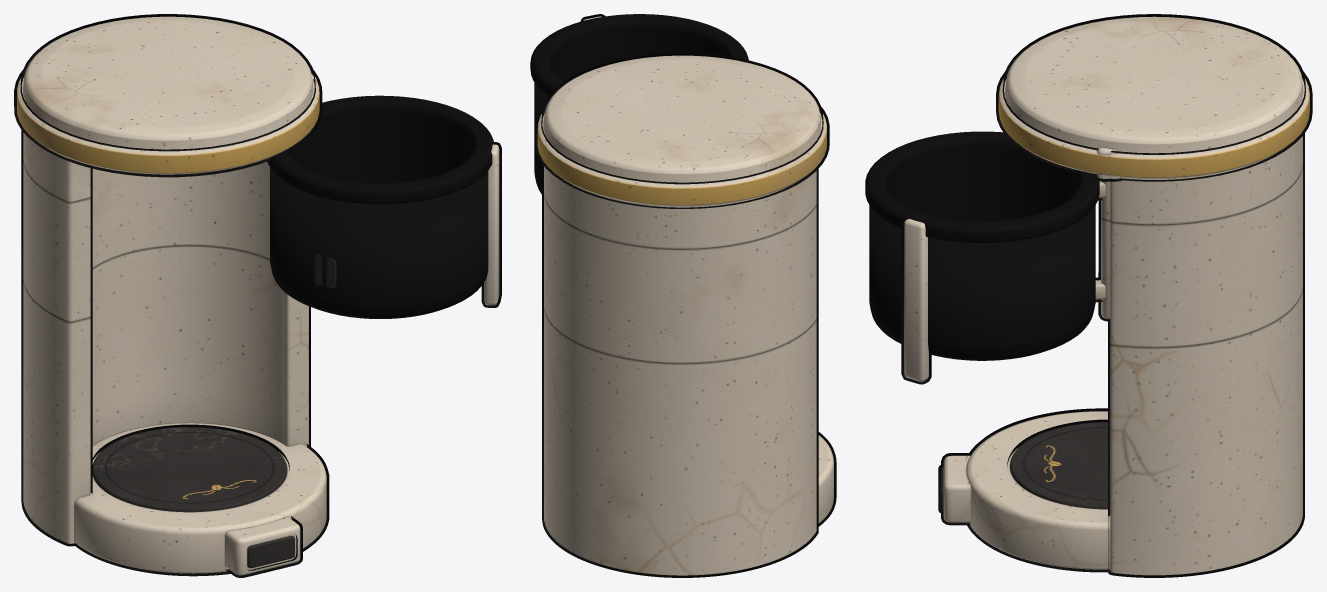
File: CoffeeMachine_Open.fbx
3 views of the same model, side by side, from view 1: azimuth 30°, elevation 25°; view 2: azimuth 150°, elevation 25°; view 3: azimuth 270°, elevation 25° (orthographic). The views are drawn at different scales.
Parts seen in each view (by area): view 1: CoffeeMachine_Open; view 2: CoffeeMachine_Open; view 3: CoffeeMachine_Open.
Part boxes in pixels (bbox=[...]): CoffeeMachine_Open: bbox=[14, 14, 501, 577]; CoffeeMachine_Open: bbox=[530, 14, 836, 577]; CoffeeMachine_Open: bbox=[865, 14, 1312, 577].
Size of the model in its own units: 0.2904 by 0.3326 by 0.3038.
Materials: 1 (1 with a texture image).
